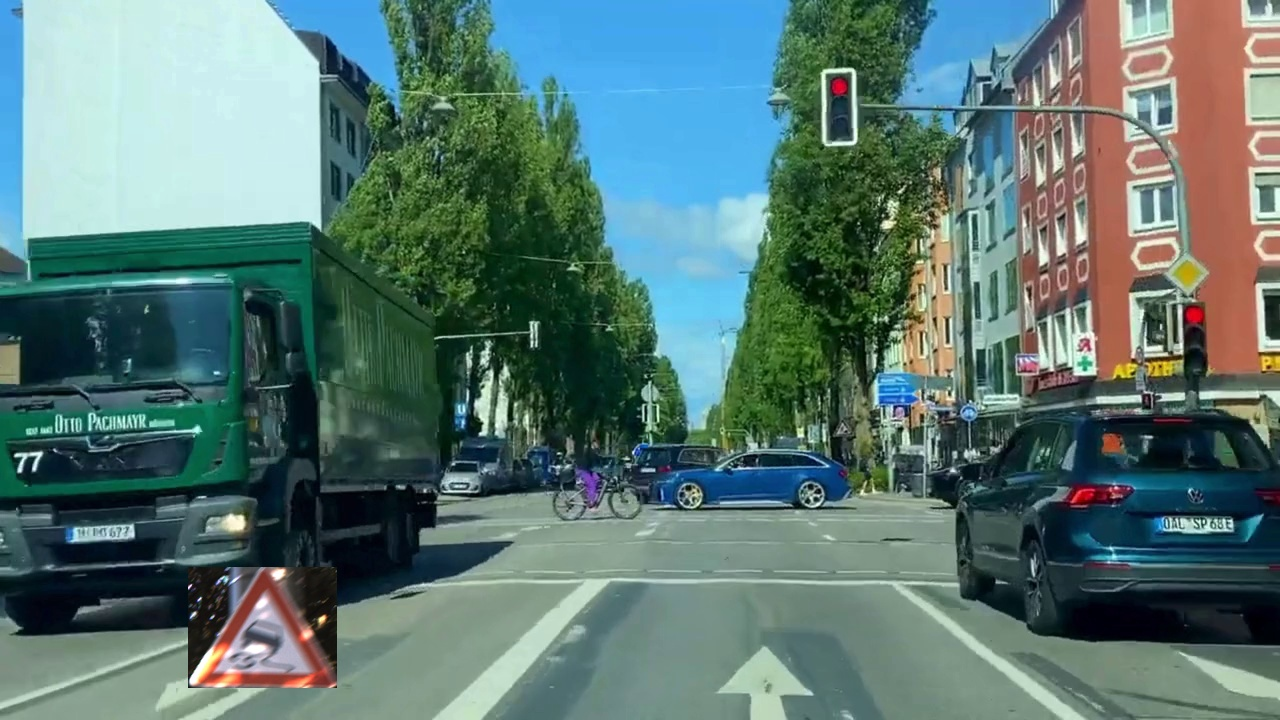Slippery: (188, 567, 337, 688)
